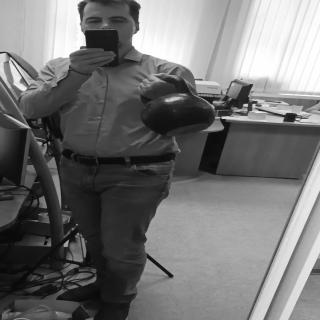girya: (141, 75, 217, 138)
